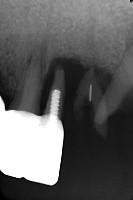Dental Caries: (40, 58, 86, 113), (93, 67, 112, 94)
